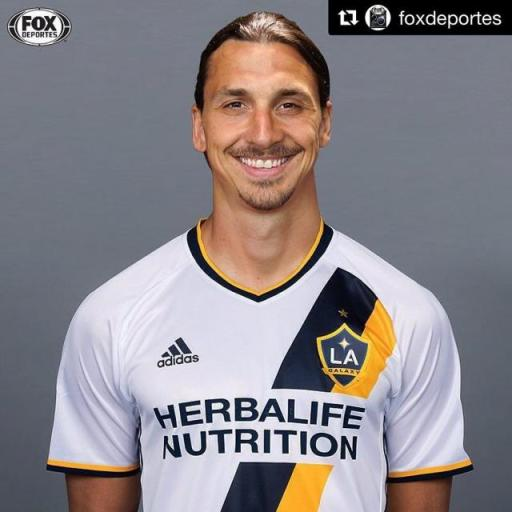Adidas: (154, 334, 201, 370)
